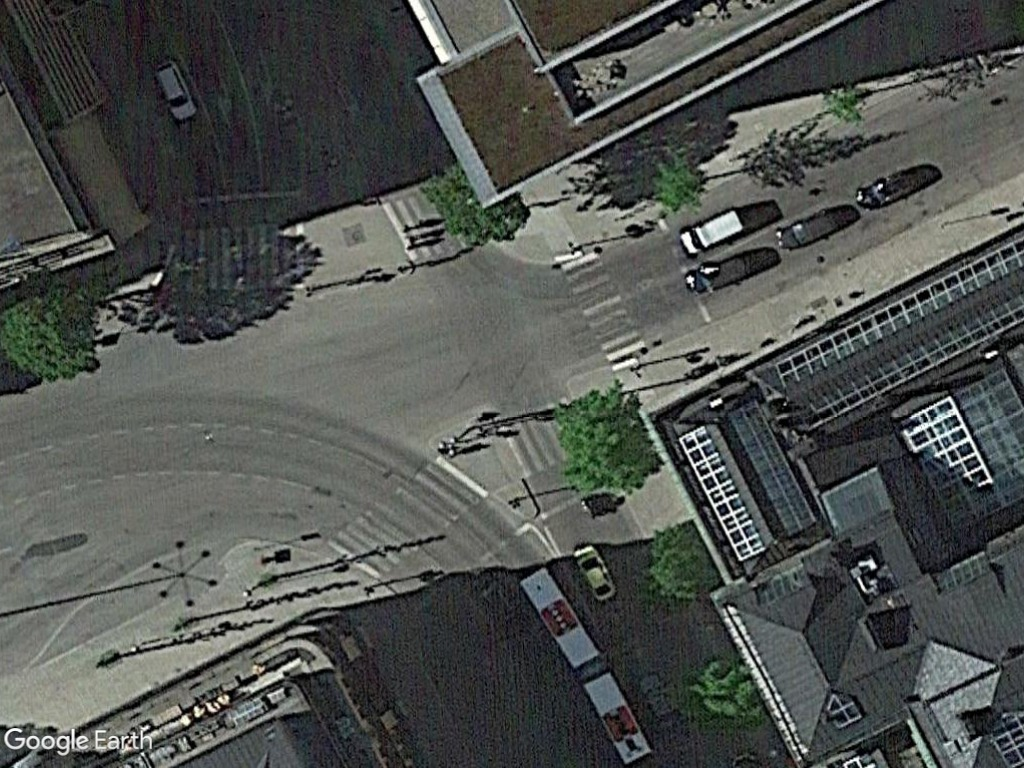bus: (516, 565, 602, 674), (579, 666, 659, 766)
car: (565, 537, 629, 610), (146, 55, 202, 126), (775, 203, 846, 255)
van: (672, 204, 751, 265)
